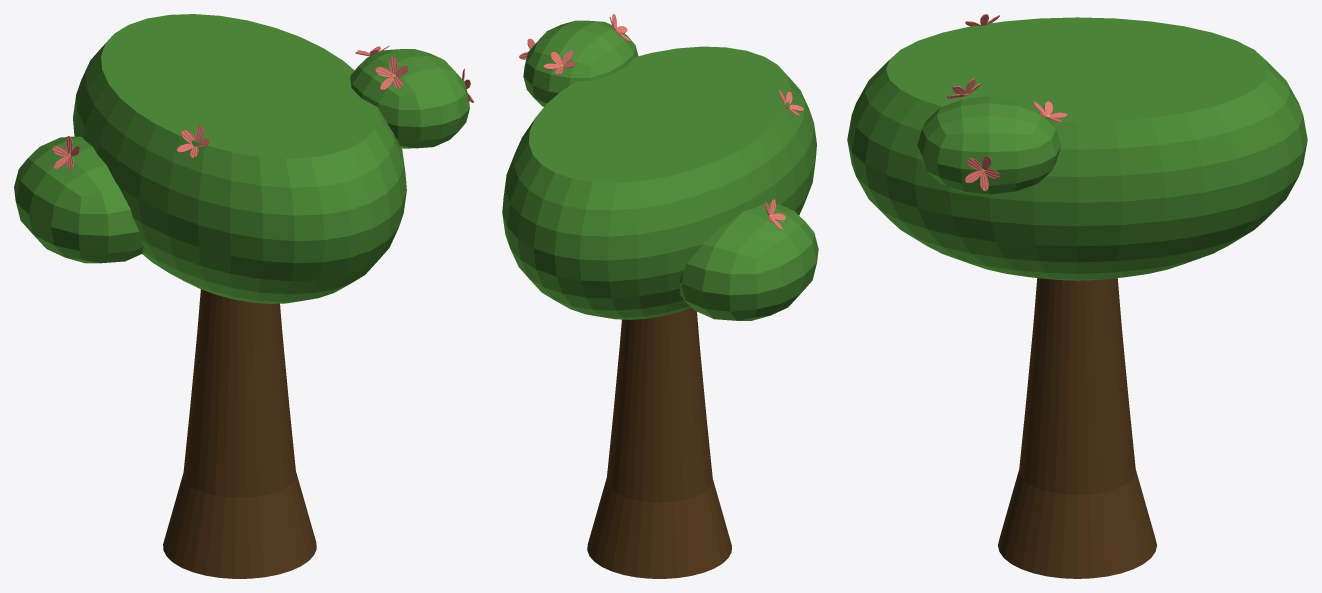
Rendered from bigtree.fbx.
The picture shows the model from 3 angles, left to right: view 1: azimuth 30°, elevation 25°; view 2: azimuth 150°, elevation 25°; view 3: azimuth 270°, elevation 25°; orthographic projection. The views are drawn at different scales.
Visible parts, largest first — view 1: Sphere, Cylinder, Cube.002, Cube.003; view 2: Sphere, Cylinder, Cube.002, Cube.003, Petals.001; view 3: Sphere, Cylinder, Cube.003, Petals 2.
Part boxes in pixels (box(x1,y1,x2,y2)): Sphere: box(73, 14, 406, 303); Cylinder: box(163, 289, 316, 578); Cube.002: box(14, 136, 143, 263); Cube.003: box(350, 49, 469, 148); Sphere: box(502, 46, 816, 319); Cylinder: box(587, 307, 731, 578); Cube.002: box(679, 204, 818, 320); Cube.003: box(523, 20, 638, 106); Petals.001: box(543, 50, 576, 74); Sphere: box(847, 17, 1307, 280); Cylinder: box(998, 278, 1156, 578); Cube.003: box(917, 96, 1060, 194); Petals 2: box(965, 156, 999, 191).
Bounding box in the file's own units: 1733 × 2252 × 1811.
